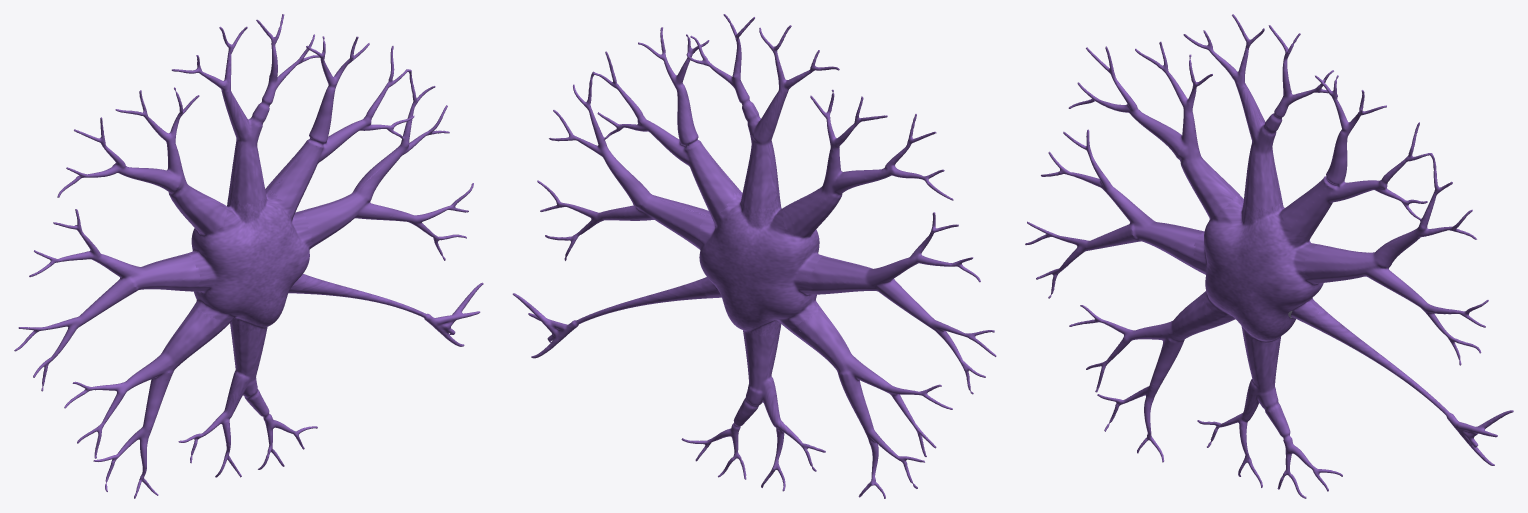
The model's file is neuronio-complete.glb.
The picture shows the model from 3 angles, left to right: view 1: azimuth 30°, elevation 25°; view 2: azimuth 150°, elevation 25°; view 3: azimuth 330°, elevation 25°; orthographic projection. The views are drawn at different scales.
Parts seen in each view (by area): view 1: dendrites_mesh, membrane_mesh, axon_mesh; view 2: dendrites_mesh, membrane_mesh, axon_mesh; view 3: dendrites_mesh, membrane_mesh, axon_mesh.
Boxes of the visible parts, bbox=[...] form: dendrites_mesh: bbox=[14, 14, 473, 498]; membrane_mesh: bbox=[185, 187, 314, 336]; axon_mesh: bbox=[298, 274, 483, 346]; dendrites_mesh: bbox=[537, 14, 996, 498]; membrane_mesh: bbox=[695, 190, 825, 339]; axon_mesh: bbox=[512, 279, 709, 358]; dendrites_mesh: bbox=[1025, 14, 1488, 498]; membrane_mesh: bbox=[1191, 195, 1323, 343]; axon_mesh: bbox=[1310, 309, 1513, 465].
Size of the model in its own units: 4.81 by 4.47 by 0.6438.
8 materials, 8 textured.
